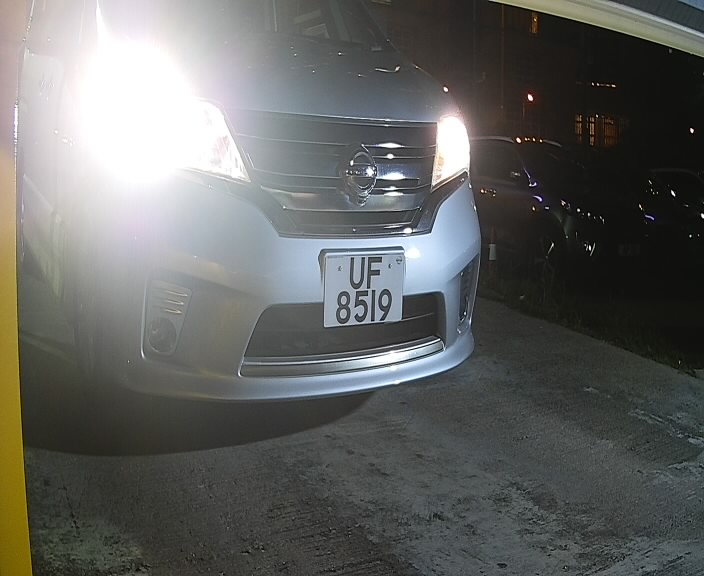Car: (25, 2, 504, 441)
License Plate: (312, 242, 411, 331)
